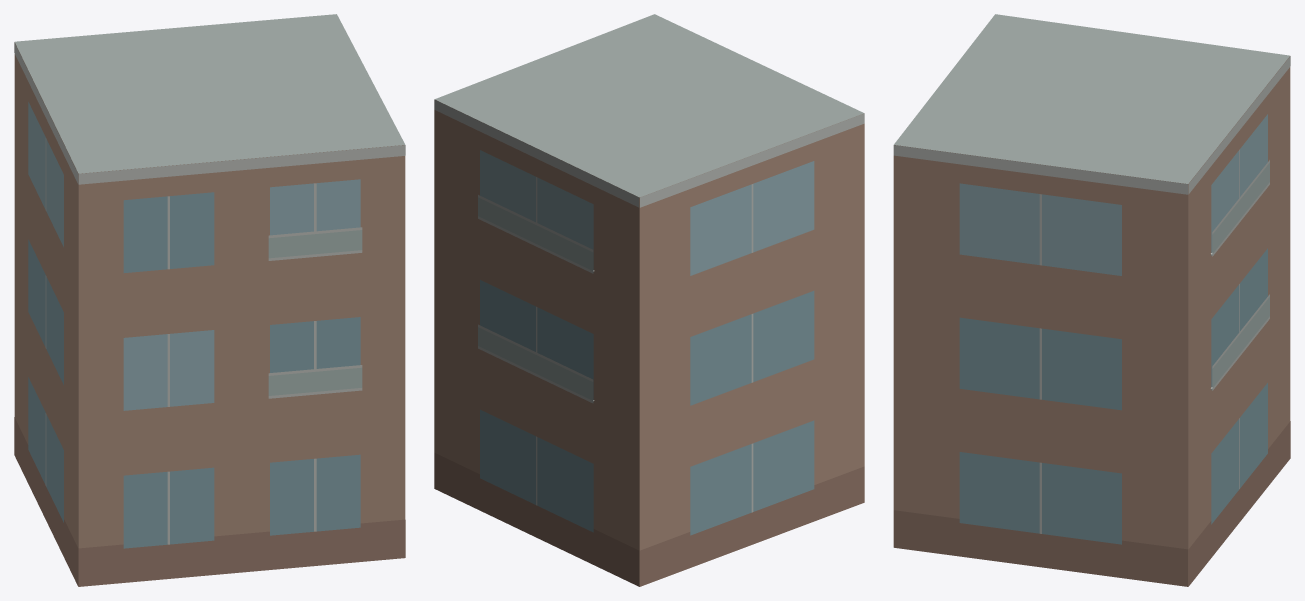
The model's file is survey-upis-32948779.glb.
The picture shows the model from 3 angles, left to right: view 1: azimuth 30°, elevation 25°; view 2: azimuth 150°, elevation 25°; view 3: azimuth 270°, elevation 25°; orthographic projection. The views are drawn at different scales.
Parts seen in each view (by area): view 1: survey-upis-32948779.tmp; view 2: survey-upis-32948779.tmp; view 3: survey-upis-32948779.tmp.
Boxes of the visible parts, <box> form: survey-upis-32948779.tmp: <box>14,14,405,586</box>; survey-upis-32948779.tmp: <box>434,14,864,586</box>; survey-upis-32948779.tmp: <box>893,14,1290,586</box>.
Bounding box in the file's own units: 8.29 × 9.15 × 8.18.
